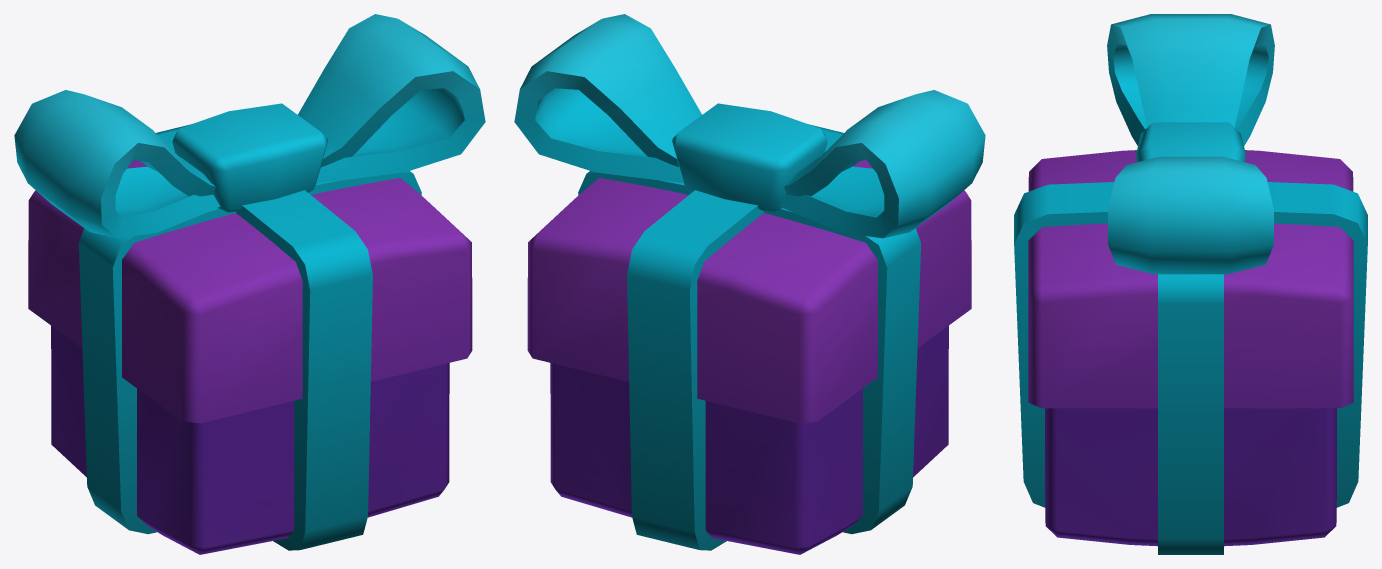
File: Present_001.fbx
3 views of the same model, side by side, from view 1: azimuth 30°, elevation 25°; view 2: azimuth 150°, elevation 25°; view 3: azimuth 270°, elevation 25° (orthographic). The views are drawn at different scales.
Parts seen in each view (by area): view 1: Present_001; view 2: Present_001; view 3: Present_001.
Part boxes in pixels (x1,y1,x2,y2): Present_001: [14, 14, 485, 554]; Present_001: [514, 14, 985, 554]; Present_001: [1014, 14, 1367, 554].
Bounding box in the file's own units: 1.53 × 1.54 × 1.19.
